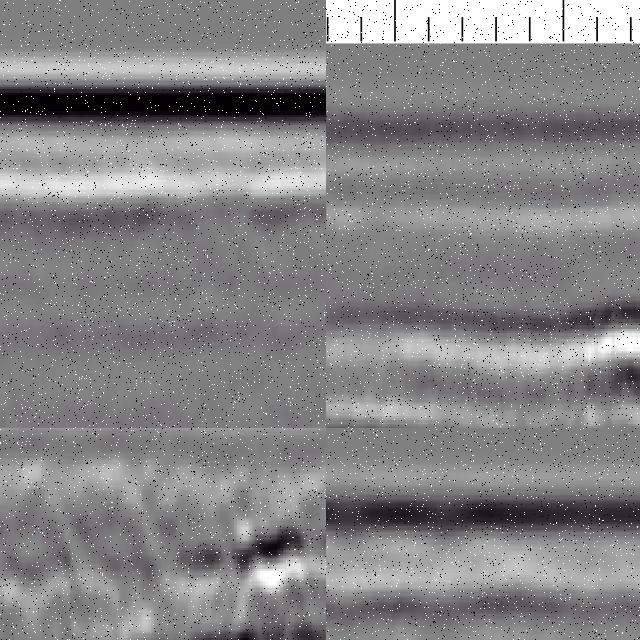loose: (116, 492, 327, 640), (1, 569, 80, 640)
